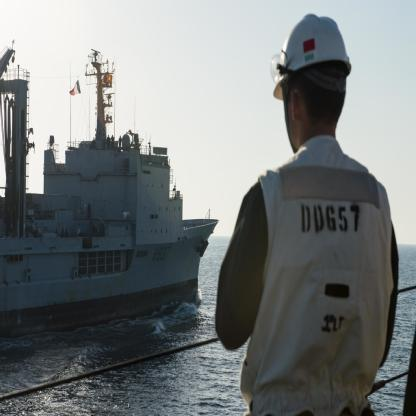Helmet: (269, 19, 352, 118)
